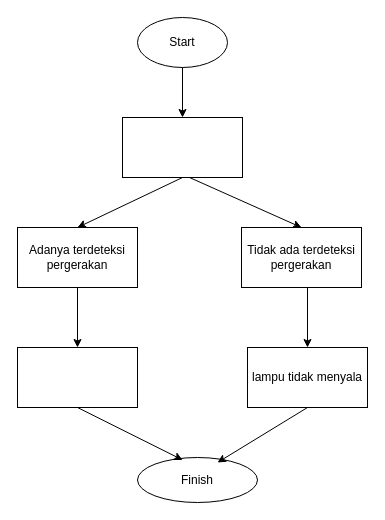
The diagram is 385 pixels wide and 520 high, and some of its shapes have lost their labels. Each missing label, with the centre of its shape:
Lampu otomatis menyala: [77,377]
PIR mendeteksi pergerakan: [182,147]
